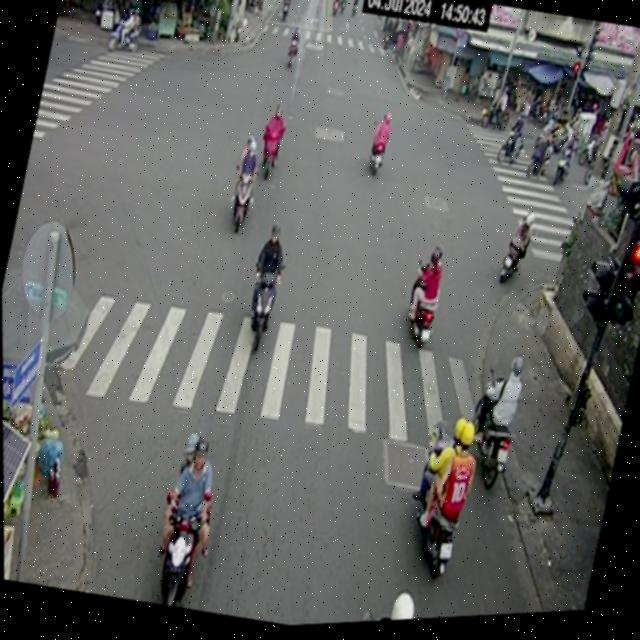Red: (600, 196, 640, 349)
